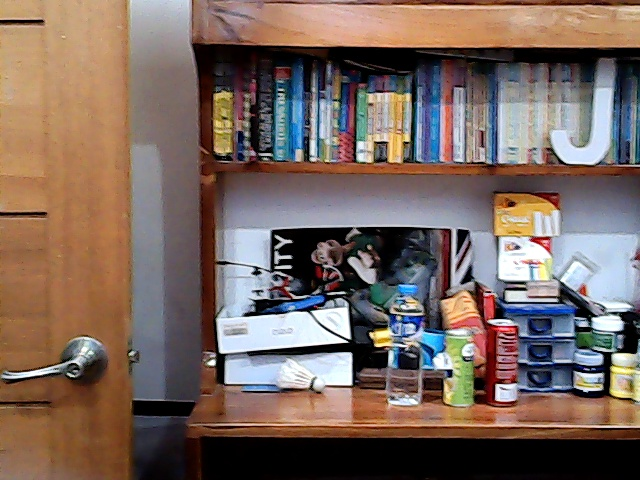Cola: (481, 315, 522, 407)
Pine Juice: (440, 325, 478, 410)
Summit Water: (384, 276, 427, 404)
